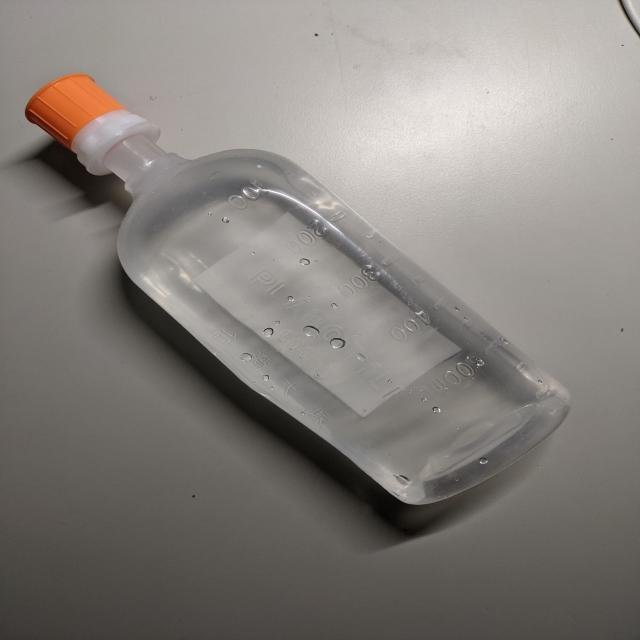Plastic: (22, 70, 573, 516)
